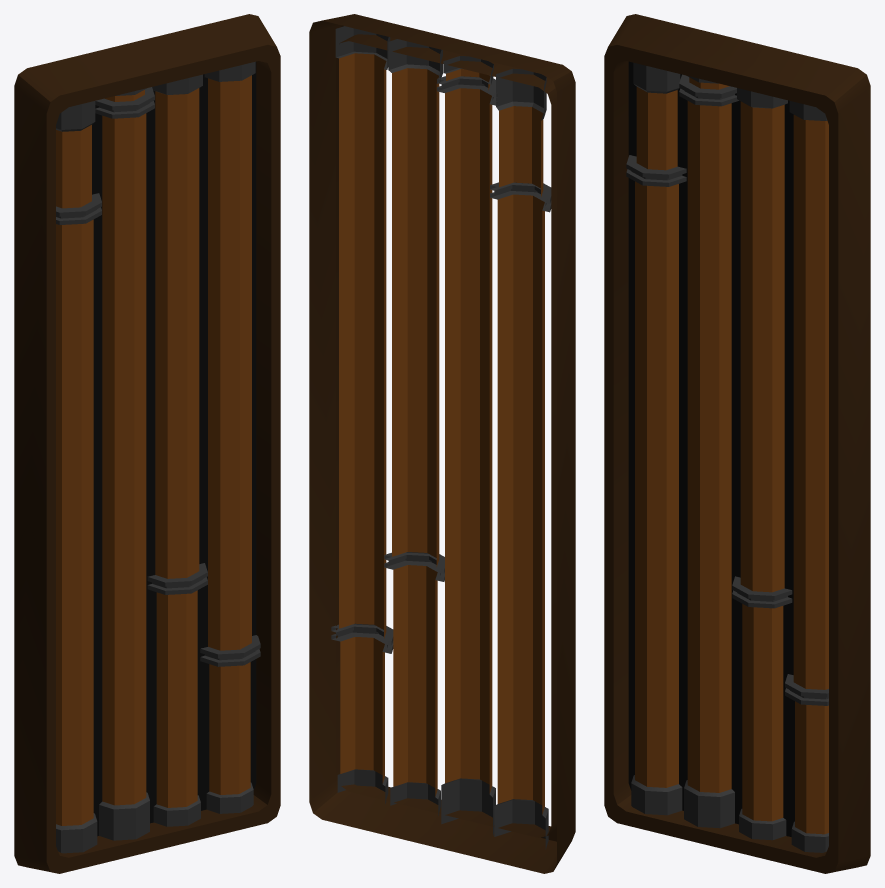
File: Details_Pipes_Long.obj
3 views of the same model, side by side, from view 1: azimuth 30°, elevation 25°; view 2: azimuth 150°, elevation 25°; view 3: azimuth 330°, elevation 25° (orthographic).
Parts seen in each view (by area): view 1: Details_Pipes_Long_Plane.061; view 2: Details_Pipes_Long_Plane.061; view 3: Details_Pipes_Long_Plane.061.
Boxes of the visible parts, bbox=[...] form: Details_Pipes_Long_Plane.061: bbox=[14, 14, 280, 873]; Details_Pipes_Long_Plane.061: bbox=[309, 14, 575, 873]; Details_Pipes_Long_Plane.061: bbox=[604, 14, 870, 873].
Size of the model in its own units: 0.5143 by 1.58 by 0.0932.
